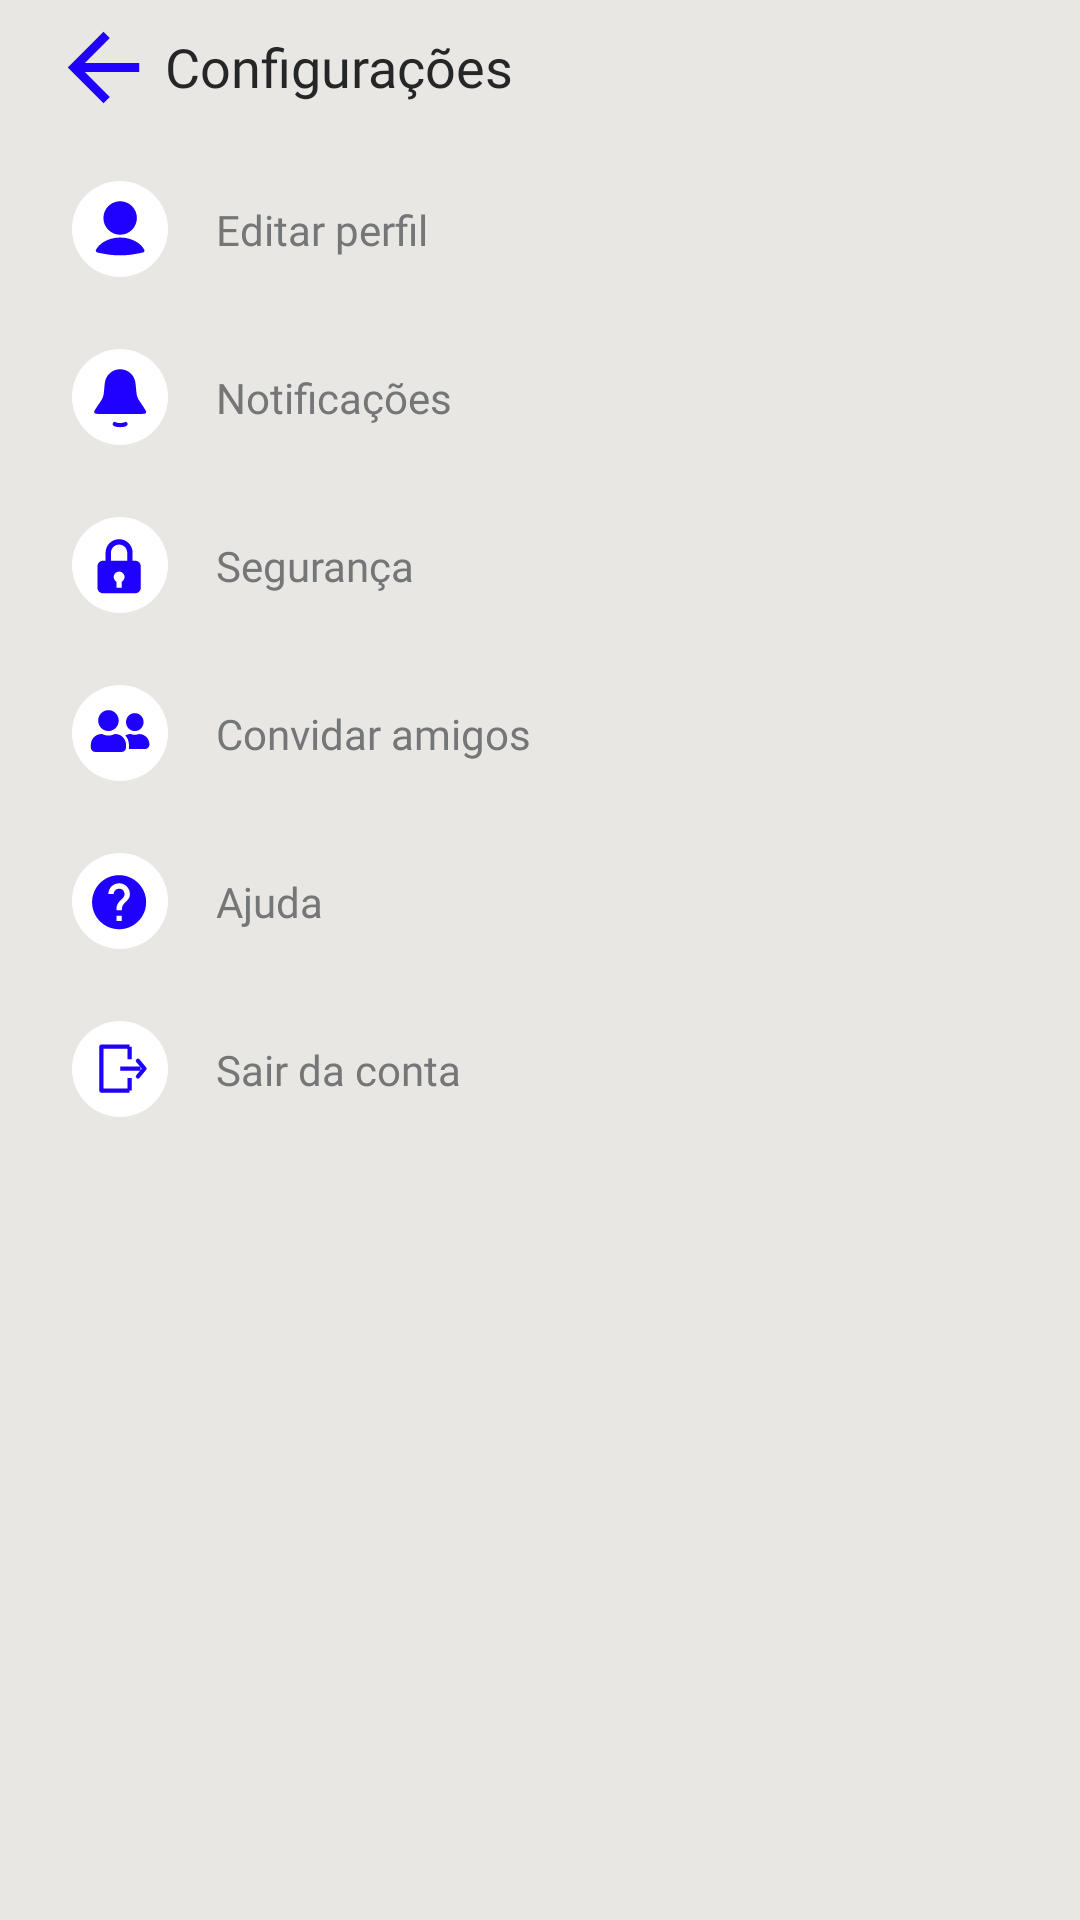

Named icons in this screenshot (1080px x 1920px) and their bounding boxes, (x1, y1, x2, y2):
arrow: (68, 32, 140, 103)
edit perfil: (72, 181, 168, 277)
help: (72, 853, 168, 949)
invite friends: (72, 685, 168, 781)
notification: (72, 349, 168, 445)
security: (72, 517, 168, 613)
